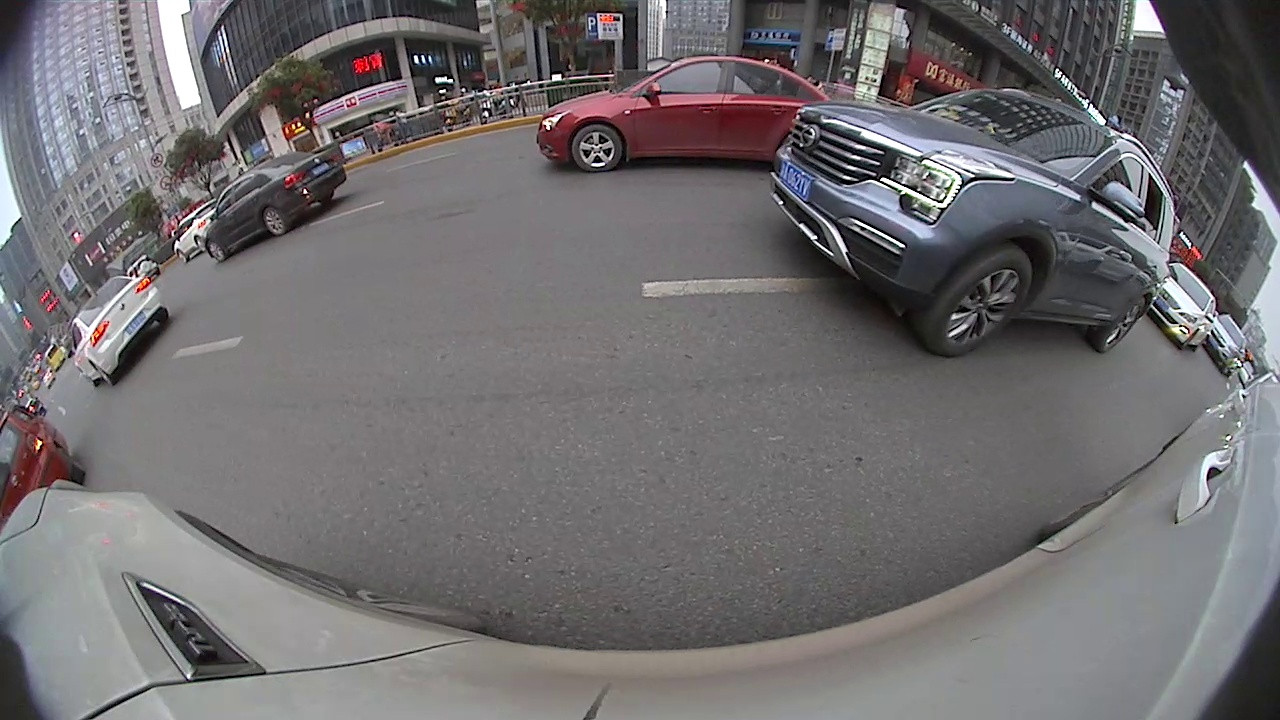car: (767, 86, 1177, 359), (535, 52, 832, 174), (203, 148, 350, 262), (68, 271, 174, 390), (1146, 261, 1218, 353)
front: (921, 251, 1036, 361), (571, 123, 623, 176), (203, 240, 227, 265)
rear: (1096, 295, 1149, 359), (261, 204, 286, 238)
rider: (1, 404, 88, 521)
